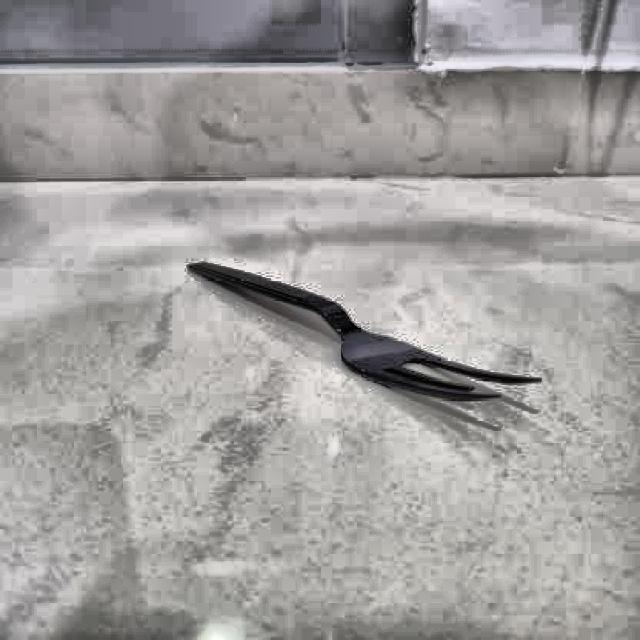plastic utensil: (185, 248, 540, 422)
